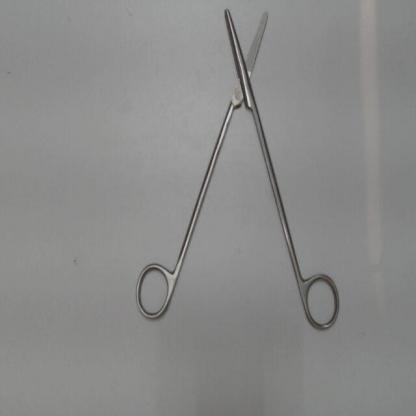9 Metzenbaum Scissors: (129, 4, 346, 338)
